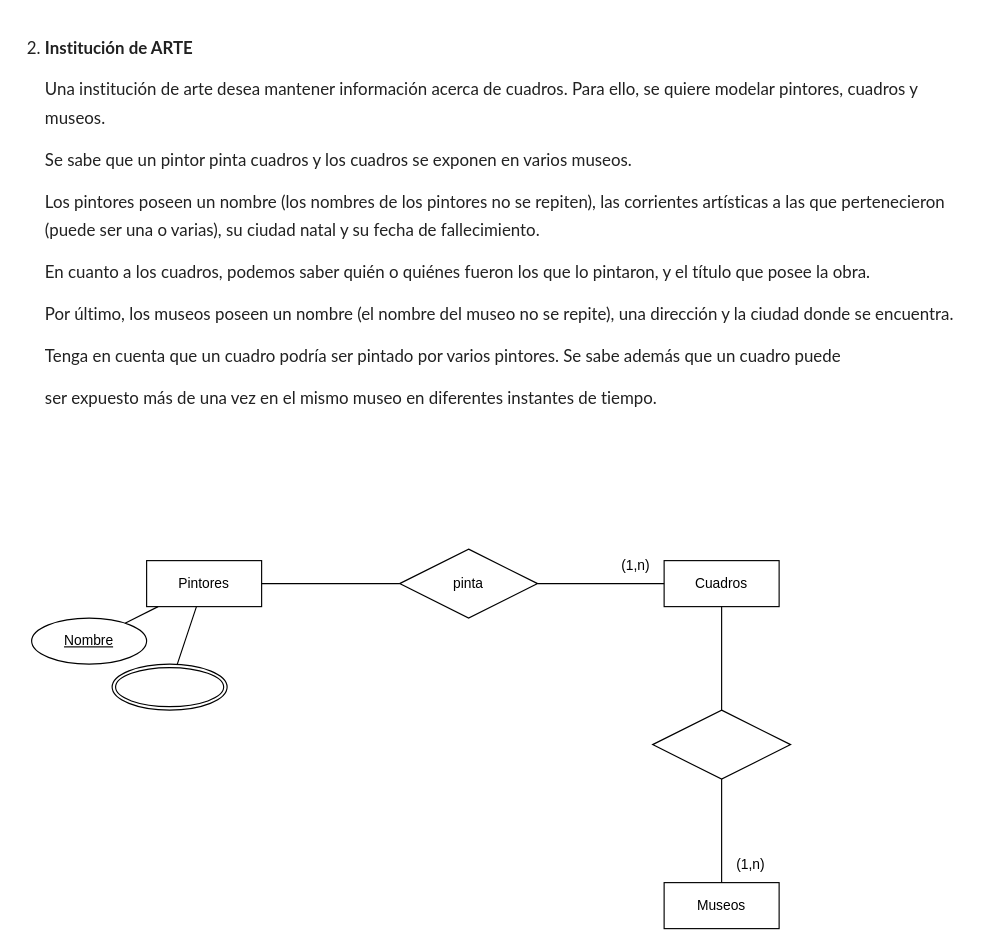
Image size: 982x949. Some labels were removed from this diagram. The centre of each missing label's shape, as x and y in pixels:
"corrientes artisticas" belongs at point (169, 686).
"se exponen en" belongs at point (721, 744).
